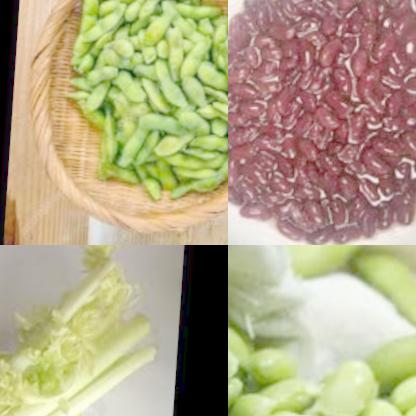beans: (228, 0, 416, 245), (58, 0, 228, 199), (228, 261, 416, 416), (349, 246, 416, 325), (276, 245, 408, 281)
celery: (0, 245, 166, 416)
